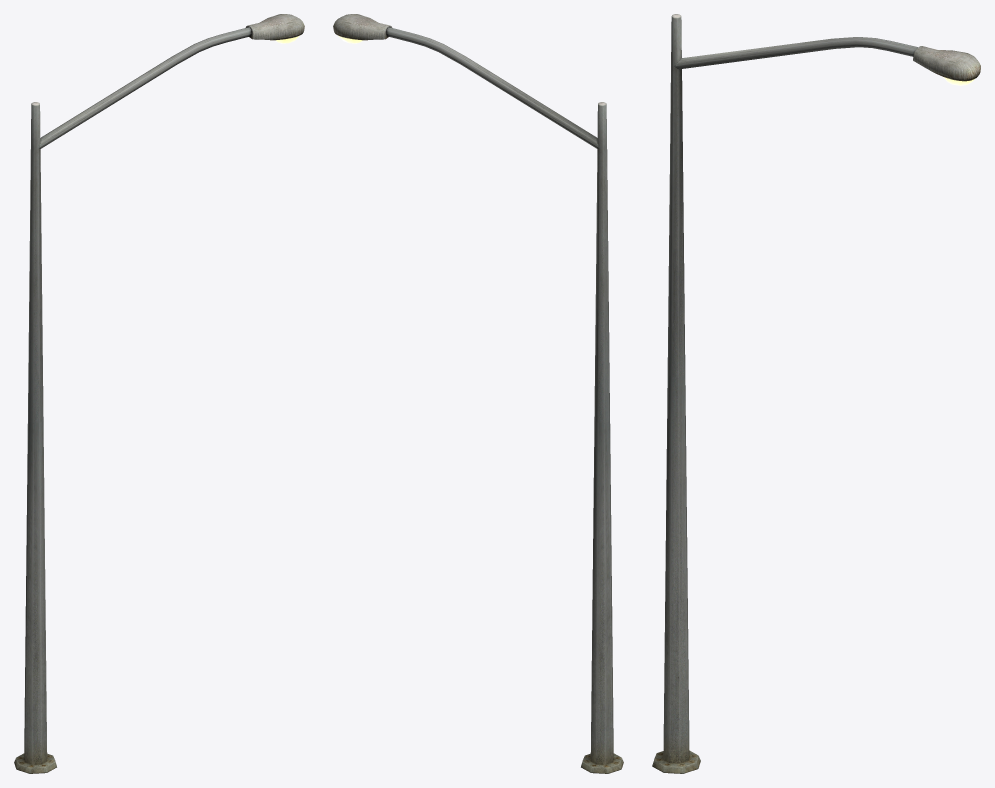
The model's file is streetlight.fbx.
The picture shows the model from 3 angles, left to right: view 1: azimuth 30°, elevation 25°; view 2: azimuth 150°, elevation 25°; view 3: azimuth 330°, elevation 25°; orthographic projection. The views are drawn at different scales.
Visible parts, largest first — view 1: Mesh; view 2: Mesh; view 3: Mesh.
Boxes of the visible parts, x1=… form: Mesh: x1=14, y1=14, x2=304, y2=773; Mesh: x1=333, y1=14, x2=623, y2=773; Mesh: x1=652, y1=14, x2=980, y2=773.
Bounding box in the file's own units: 2.37 × 5.44 × 0.3208.
